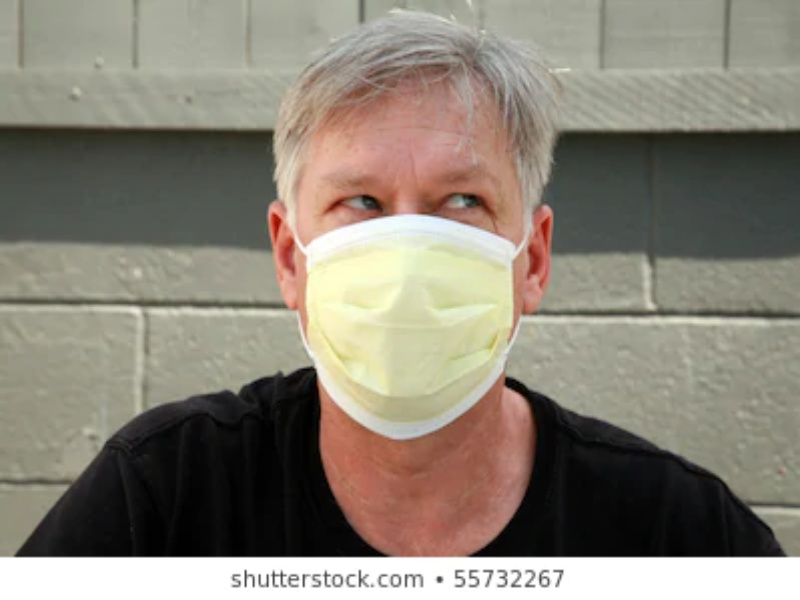ManaoArotava: (257, 37, 573, 457)
